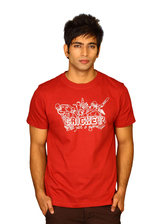clothoes: (23, 69, 139, 208)
